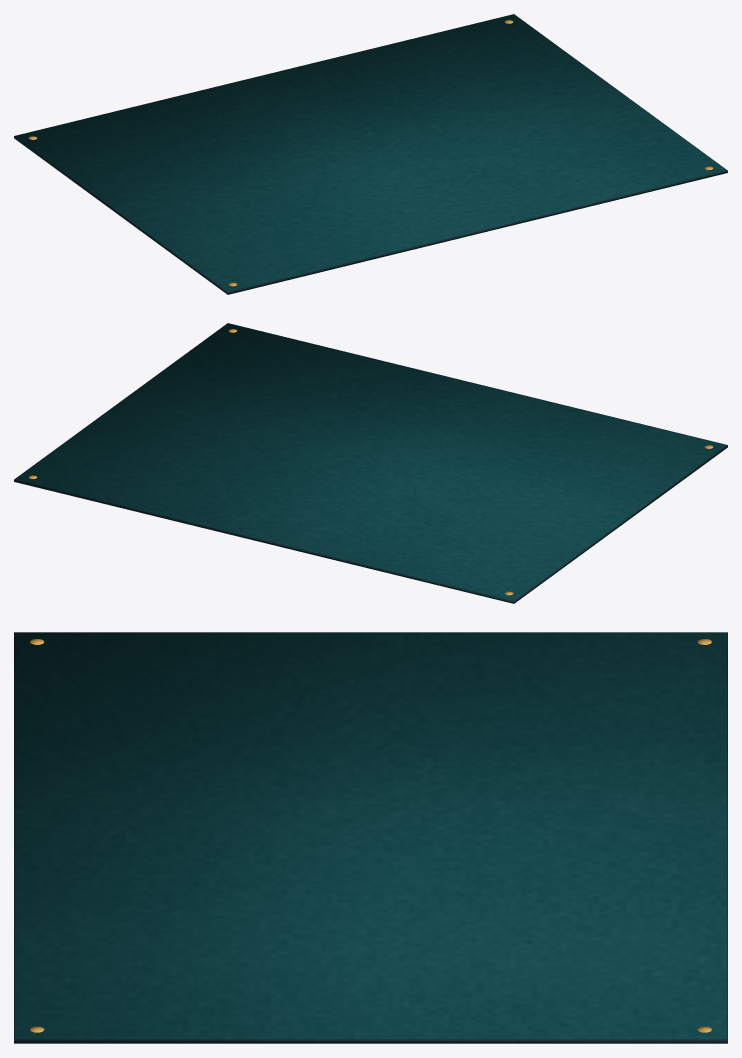
File: 281_L121_PCB_Main.obj
The picture shows the model from 3 angles, top to bottom: view 1: azimuth 30°, elevation 25°; view 2: azimuth 150°, elevation 25°; view 3: azimuth 270°, elevation 25°; orthographic projection. The views are drawn at different scales.
Parts seen in each view (by area): view 1: solder_mask__PSMAT__solder_mask, pcb_core__PSMAT__pcb_core; view 2: solder_mask__PSMAT__solder_mask, pcb_core__PSMAT__pcb_core; view 3: solder_mask__PSMAT__solder_mask, pcb_core__PSMAT__pcb_core.
Boxes of the visible parts, box(x1,y1,x2,y2) form: solder_mask__PSMAT__solder_mask: box(15, 14, 726, 292); pcb_core__PSMAT__pcb_core: box(14, 14, 727, 294); solder_mask__PSMAT__solder_mask: box(15, 323, 726, 601); pcb_core__PSMAT__pcb_core: box(14, 323, 727, 603); solder_mask__PSMAT__solder_mask: box(15, 632, 726, 1039); pcb_core__PSMAT__pcb_core: box(14, 632, 727, 1043).
Size of the model in its own units: 0.54 by 0.00259 by 0.4.
3 materials, 3 textured.
